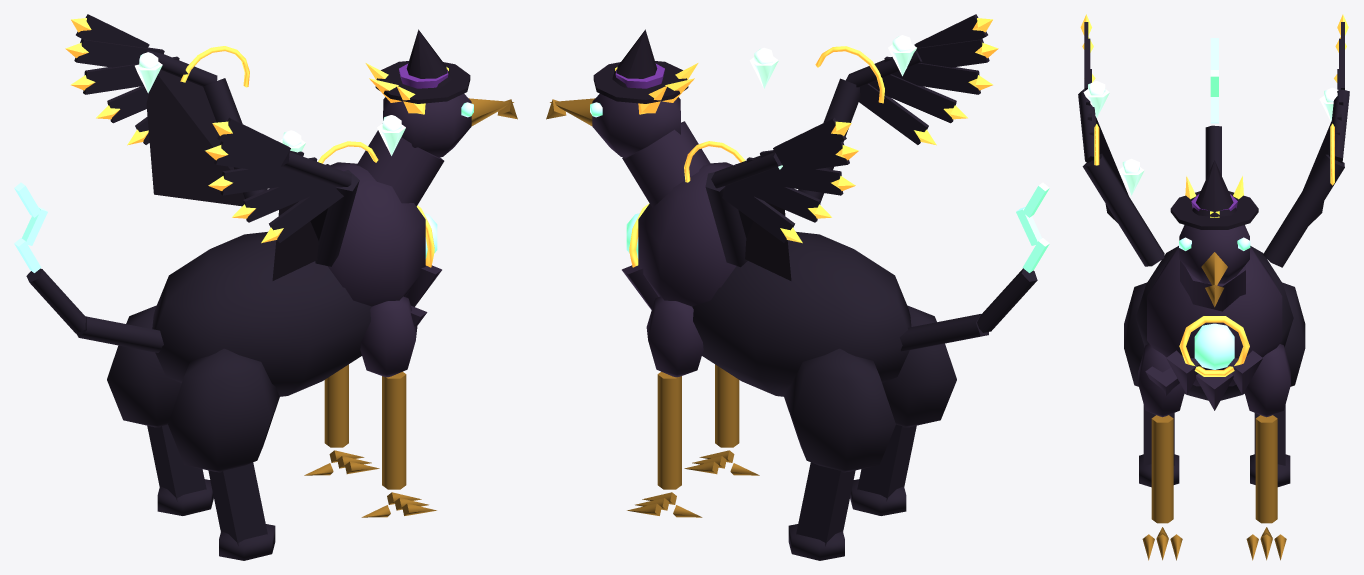
The model's file is enemy_boss_storm.glb.
The picture shows the model from 3 angles, left to right: view 1: azimuth 30°, elevation 25°; view 2: azimuth 150°, elevation 25°; view 3: azimuth 270°, elevation 25°; orthographic projection. The views are drawn at different scales.
Visible parts, largest first — view 1: torso, leg_l_thigh, chest, wing_r_covert, wing_l, wing_r, leg_r_thigh, tail, arm_l_feathers, neck, leg_l_shin, skull (+13 smaller); view 2: torso, leg_r_thigh, chest, wing_l, wing_r, leg_l_thigh, tail, neck, skull, arm_r_feathers, leg_r_shin, arm_r_shank (+13 smaller); view 3: chest, wing_l_arm, wing_r_arm, skull, arm_l_shank, arm_r_shank, arm_r_feathers, torso, arm_l_feathers, deco_hw_hat_brim, core_orb, tail (+21 smaller).
Part boxes in pixels (x1,y1,x2,y2): torso: (152,232,371,396); leg_l_thigh: (168,348,279,472); chest: (327,162,425,306); wing_r_covert: (146,69,244,206); wing_l: (214,117,343,242); wing_r: (74,14,179,144); leg_r_thigh: (107,305,181,427); tail: (14,182,163,352); arm_l_feathers: (360,296,417,377); neck: (356,130,444,206); leg_l_shin: (208,462,267,546); skull: (383,93,471,157); torso: (692,232,911,396); leg_r_thigh: (784,348,895,472); chest: (638,162,736,306); wing_l: (859,14,989,144); wing_r: (722,117,849,242); leg_l_thigh: (882,305,956,427); tail: (899,182,1049,351); neck: (622,121,710,207); skull: (592,93,680,157); arm_r_feathers: (646,296,703,377); leg_r_shin: (796,462,855,546); arm_r_shank: (657,371,681,489); chest: (1147,246,1282,386); wing_l_arm: (1082,153,1164,266); wing_r_arm: (1263,154,1344,267); skull: (1179,225,1249,283); arm_l_shank: (1151,415,1173,523); arm_r_shank: (1255,415,1277,523); arm_r_feathers: (1244,344,1290,417); torso: (1135,246,1293,400); arm_l_feathers: (1138,344,1184,417); deco_hw_hat_brim: (1170,191,1258,229); core_orb: (1194,323,1234,369); tail: (1205,38,1221,179).
Size of the model in its own units: 0.7574 by 0.6967 by 0.3919.
